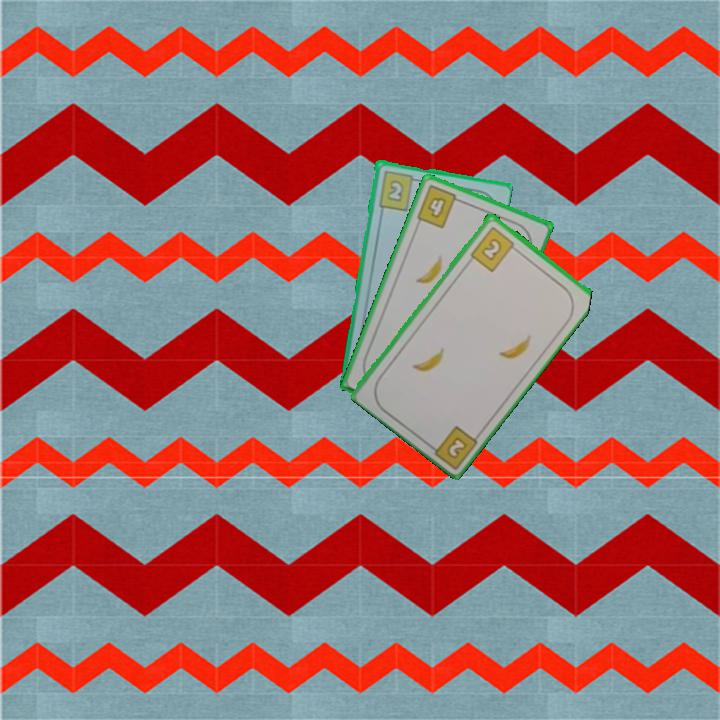2b: (467, 222, 521, 274), (375, 167, 422, 213), (443, 433, 470, 462)
4b: (413, 181, 466, 231)
